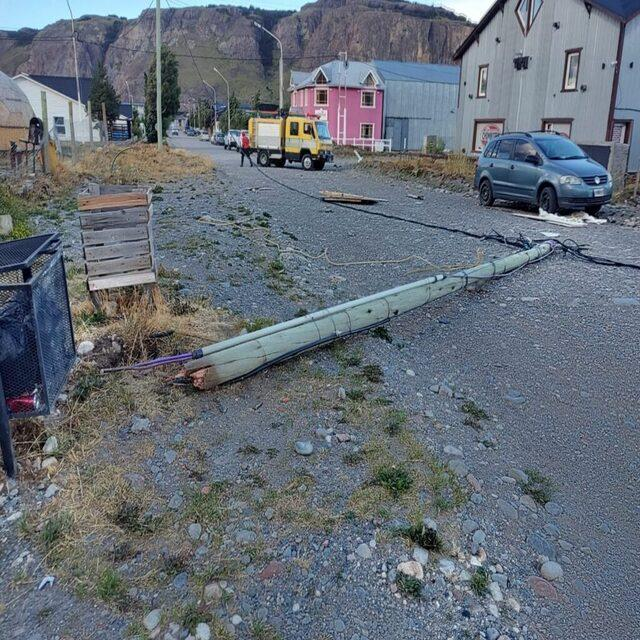Inclined Pole: (175, 236, 561, 397)
